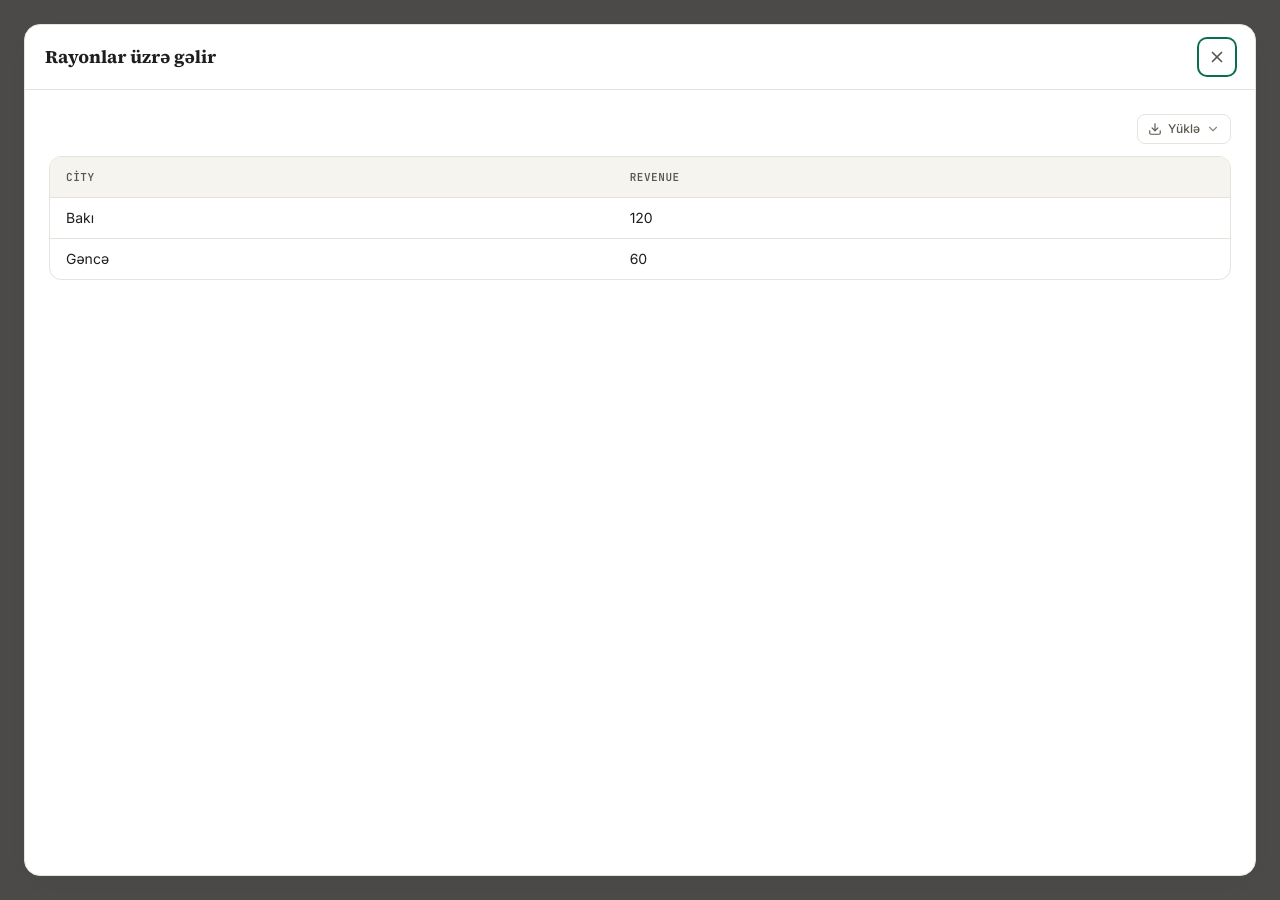
Test: ShareChartModal › omits the image formats for table — DOM rows have no <svg> to serialize
Click the button "Yüklə" at (1184, 129), box left=1137, top=114, right=1231, bottom=144
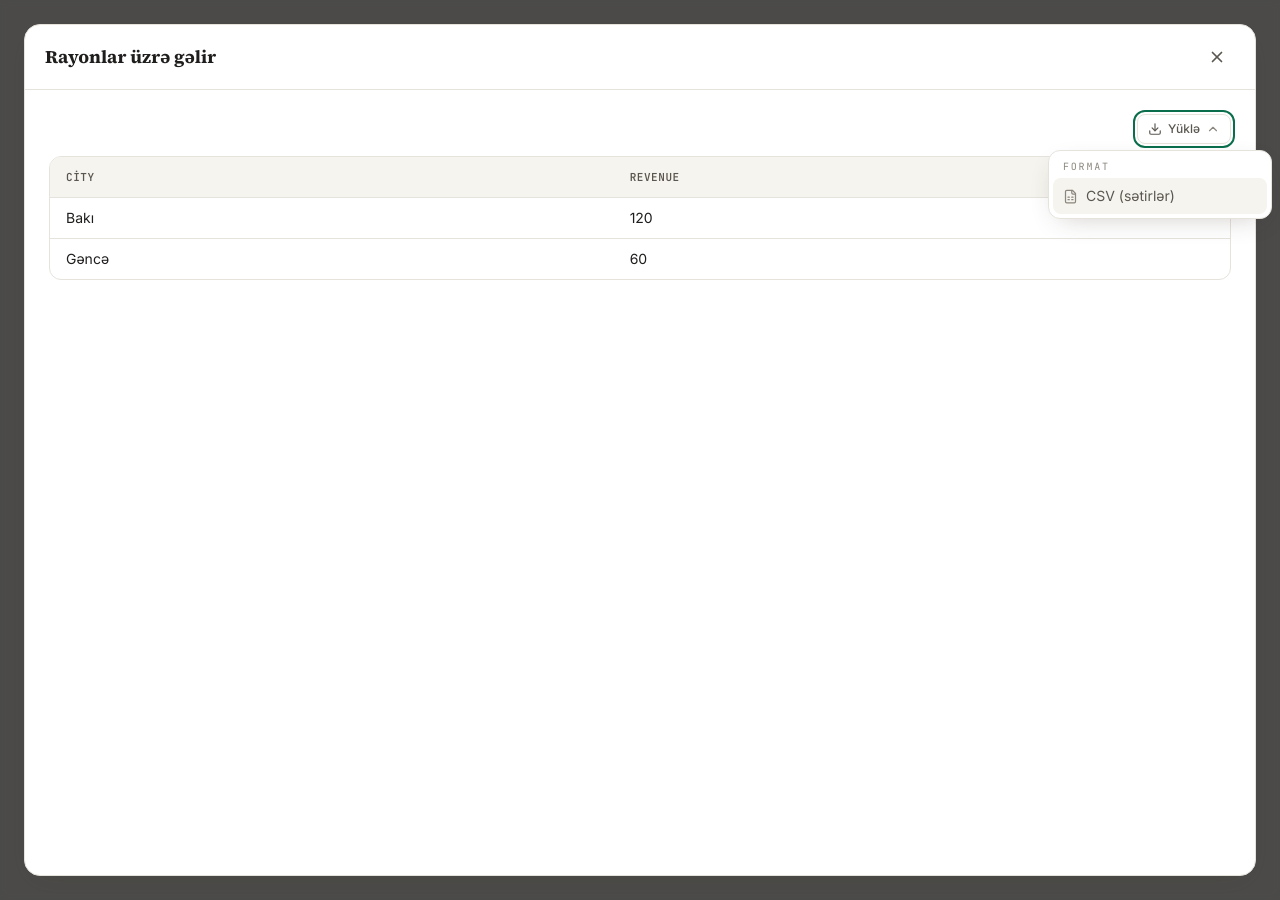
Now the menu item "CSV (sətirlər)" is shown, box left=1053, top=178, right=1267, bottom=214
